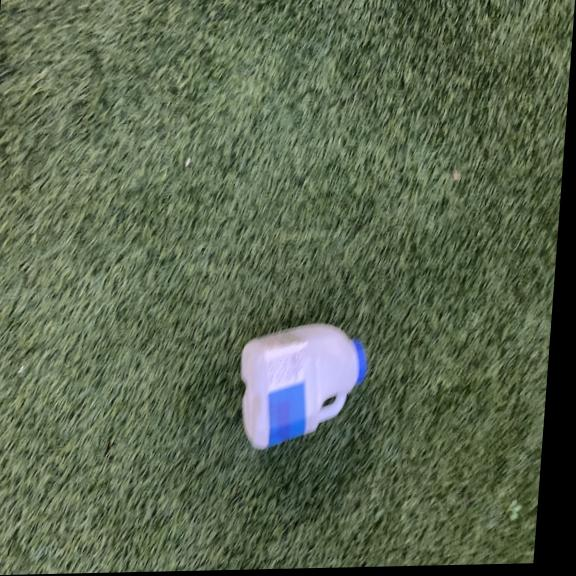Plastik: (228, 317, 373, 458)
